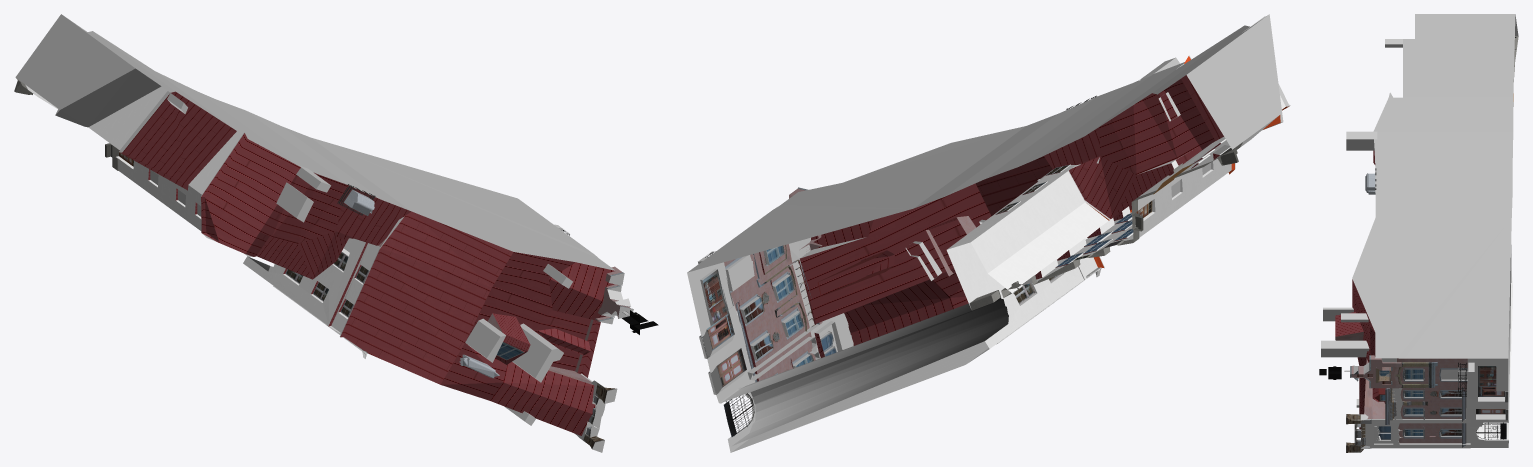
Rendered from Pikk_37-origo.obj.
3 views of the same model, side by side, from view 1: azimuth 30°, elevation 25°; view 2: azimuth 150°, elevation 25°; view 3: azimuth 270°, elevation 25° (orthographic). The views are drawn at different scales.
Visible parts, largest first — view 1: Pikk_37; view 2: Pikk_37; view 3: Pikk_37.
Boxes of the visible parts, <box> form: Pikk_37: <box>14,14,658,452</box>; Pikk_37: <box>687,14,1290,452</box>; Pikk_37: <box>1319,14,1518,452</box>.
Bounding box in the file's own units: 44.31 × 37 × 22.1.
